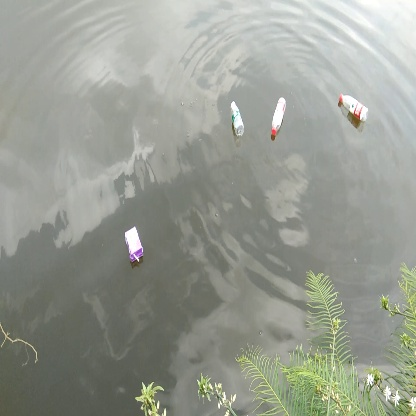bottle: (336, 92, 375, 123), (227, 99, 247, 138), (269, 98, 288, 138)
milk-box: (119, 223, 152, 268)
